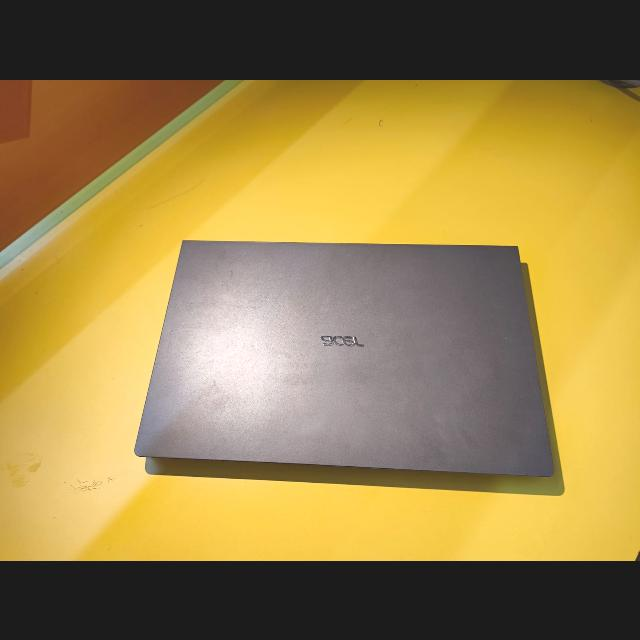laptop: (120, 230, 570, 510)
